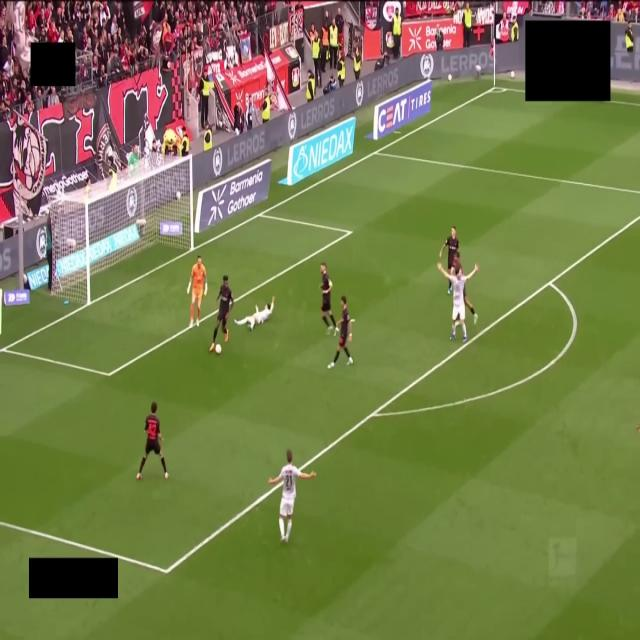ball: (215, 344, 221, 354)
player: (268, 450, 315, 542), (438, 264, 478, 342), (137, 402, 168, 479), (328, 296, 352, 368), (210, 276, 233, 351), (187, 256, 207, 327), (234, 296, 274, 330), (320, 263, 337, 333), (439, 226, 458, 272), (464, 288, 477, 324)
